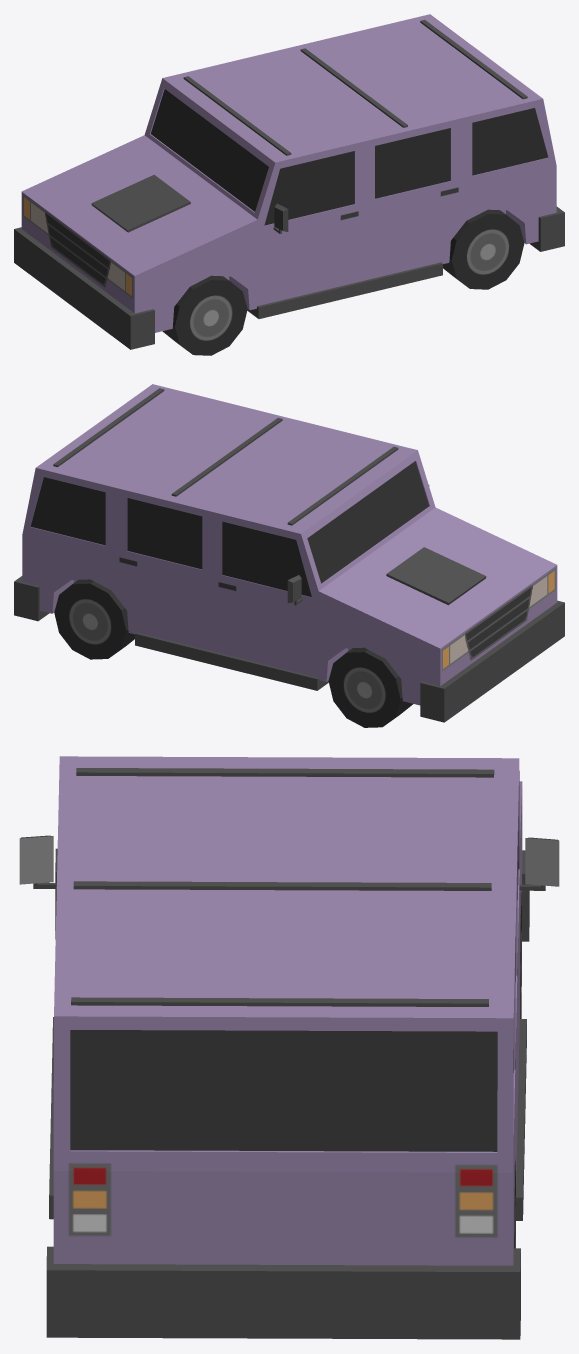
File: suv_1.glb
3 views of the same model, one above another, from view 1: azimuth 30°, elevation 25°; view 2: azimuth 150°, elevation 25°; view 3: azimuth 270°, elevation 25° (orthographic). The views are drawn at different scales.
Visible parts, largest first — view 1: Vehicle_SUV_color02.001; view 2: Vehicle_SUV_color02.001; view 3: Vehicle_SUV_color02.001.
Part boxes in pixels (x1,y1,x2,y2): Vehicle_SUV_color02.001: (14, 14, 564, 355); Vehicle_SUV_color02.001: (14, 384, 564, 727); Vehicle_SUV_color02.001: (19, 756, 559, 1339).
Bounding box in the file's own units: 5.76 × 2.27 × 3.1.
Materials: 1 (1 with a texture image).
